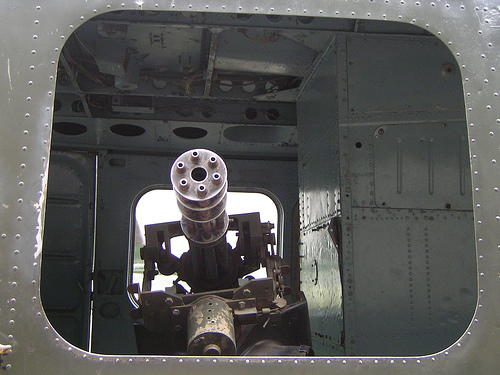rifle: (144, 142, 300, 353)
